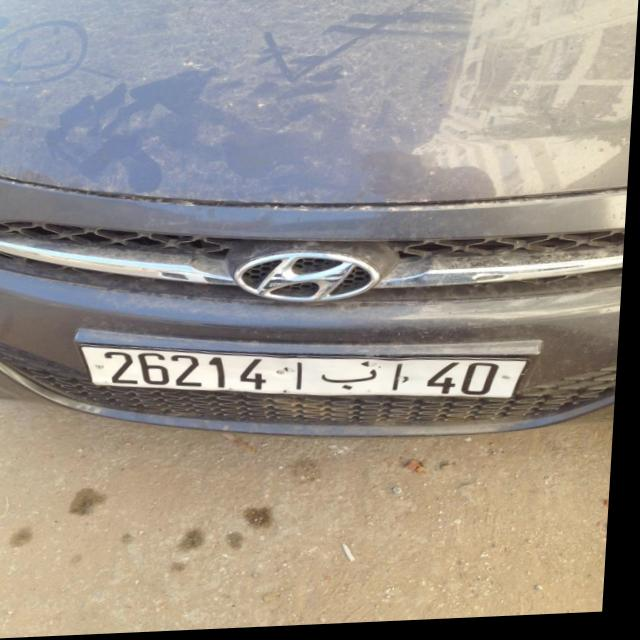License-Plate: (85, 346, 532, 403)
